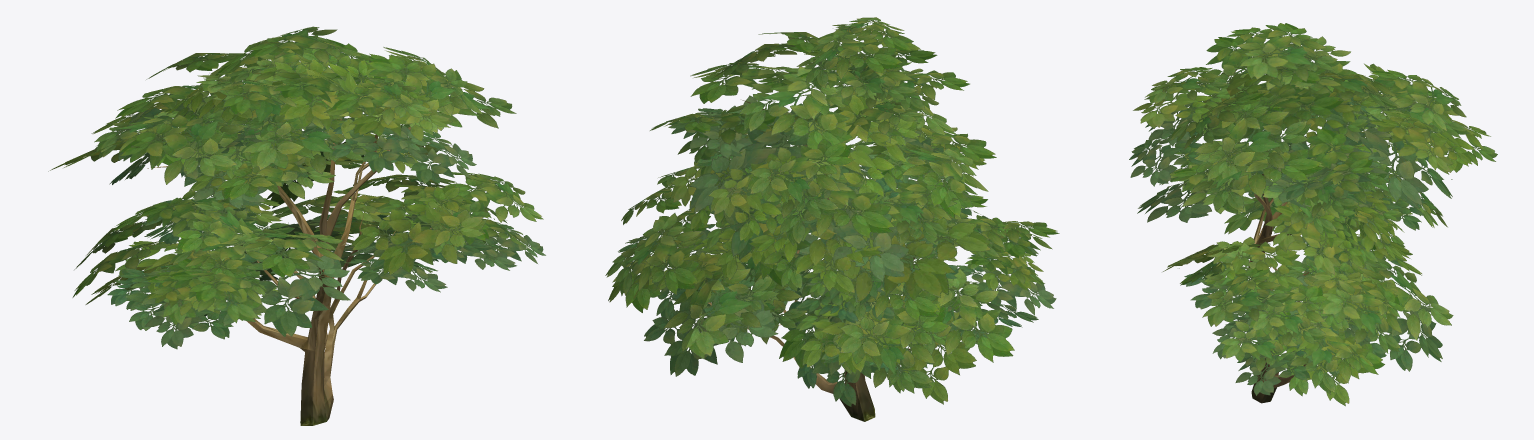
Rendered from map_112_shu_1.fbx.
3 renders of one model, left to right at view 1: azimuth 30°, elevation 25°; view 2: azimuth 150°, elevation 25°; view 3: azimuth 270°, elevation 25°, orthographic. The views are drawn at different scales.
Visible parts, largest first — view 1: map_112_shu_1; view 2: map_112_shu_1; view 3: map_112_shu_1.
Boxes of the visible parts, bbox=[...] form: map_112_shu_1: bbox=[48, 26, 545, 425]; map_112_shu_1: bbox=[605, 17, 1059, 421]; map_112_shu_1: bbox=[1129, 23, 1497, 406].
Bounding box in the file's own units: 3.69 × 2.9 × 3.02.
